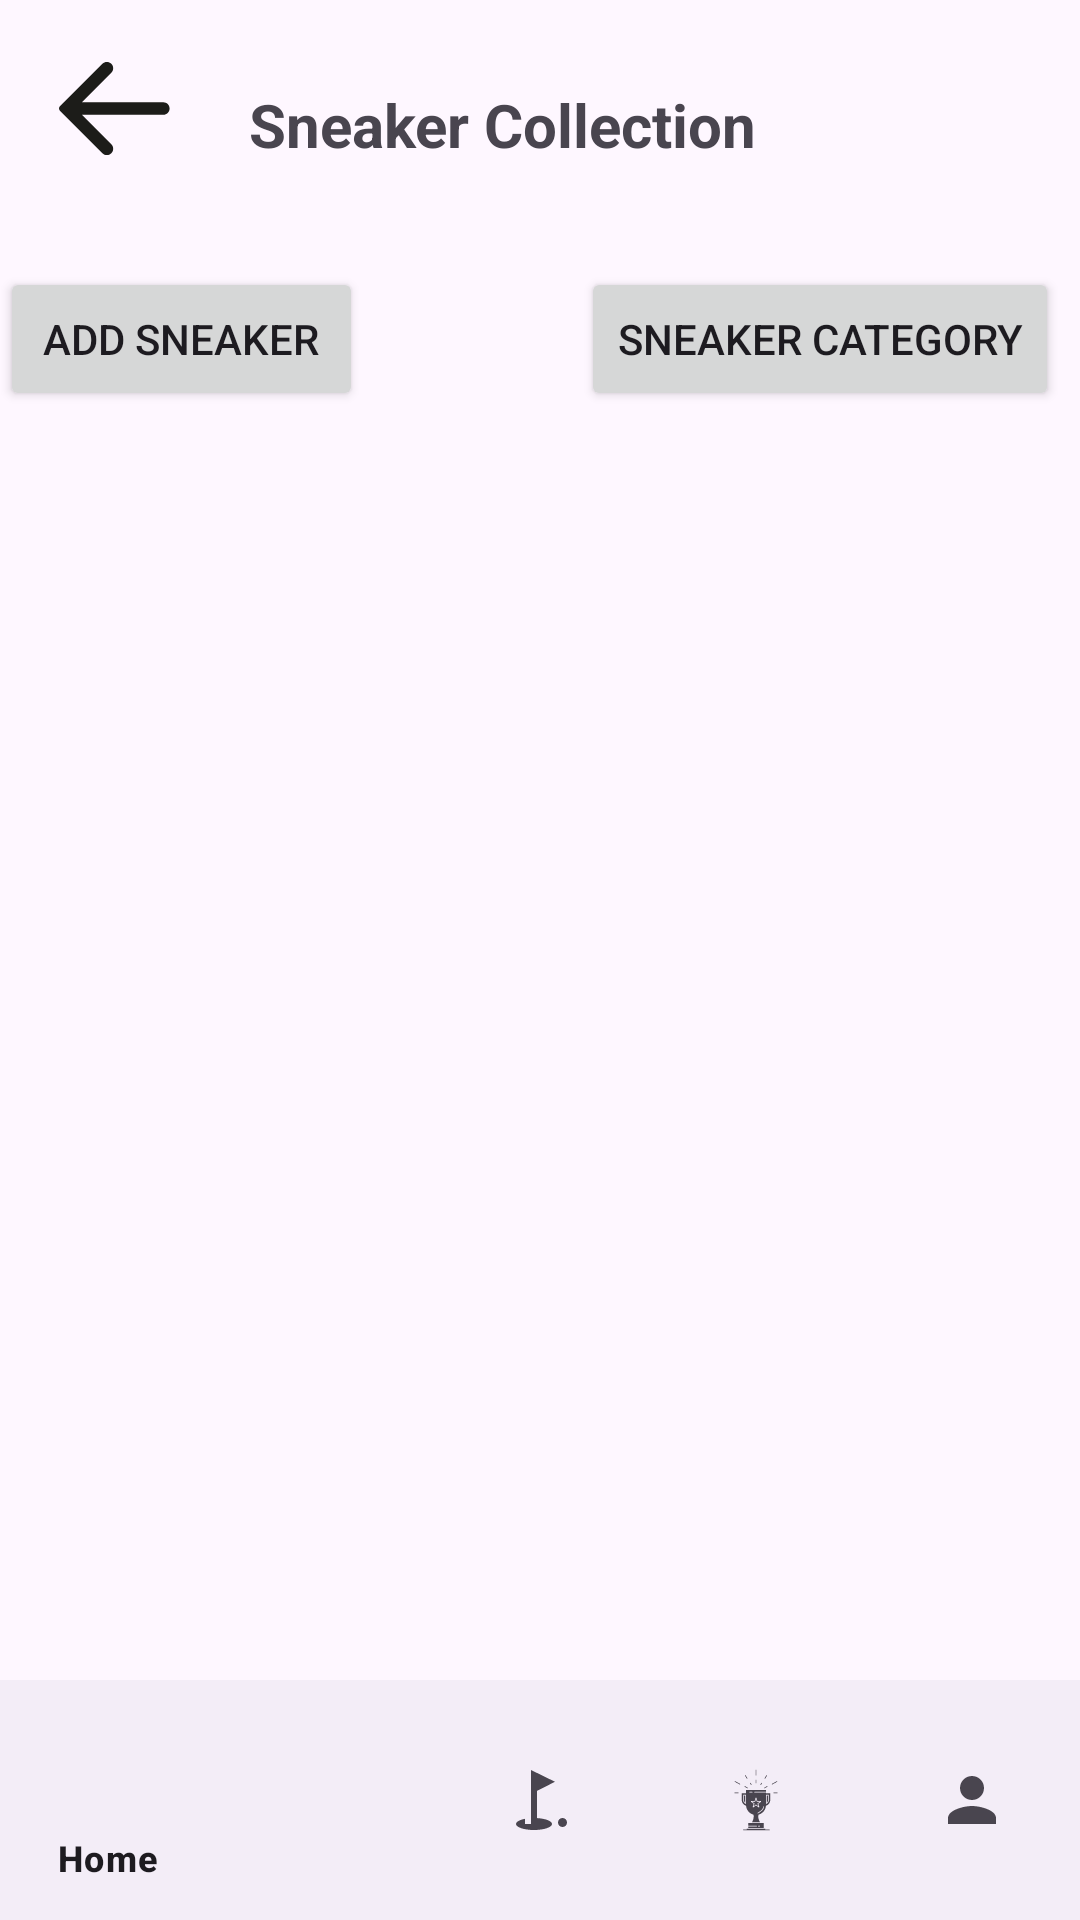

Screen size 1080×1920. Icon name, then its center in pixels as (x=x, y=y):
arrowleft: (x=114, y=108)
